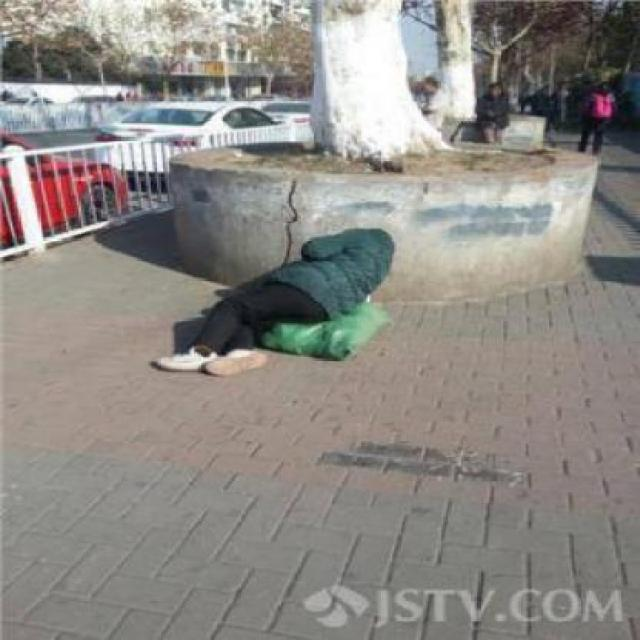fall: (128, 215, 415, 377)
